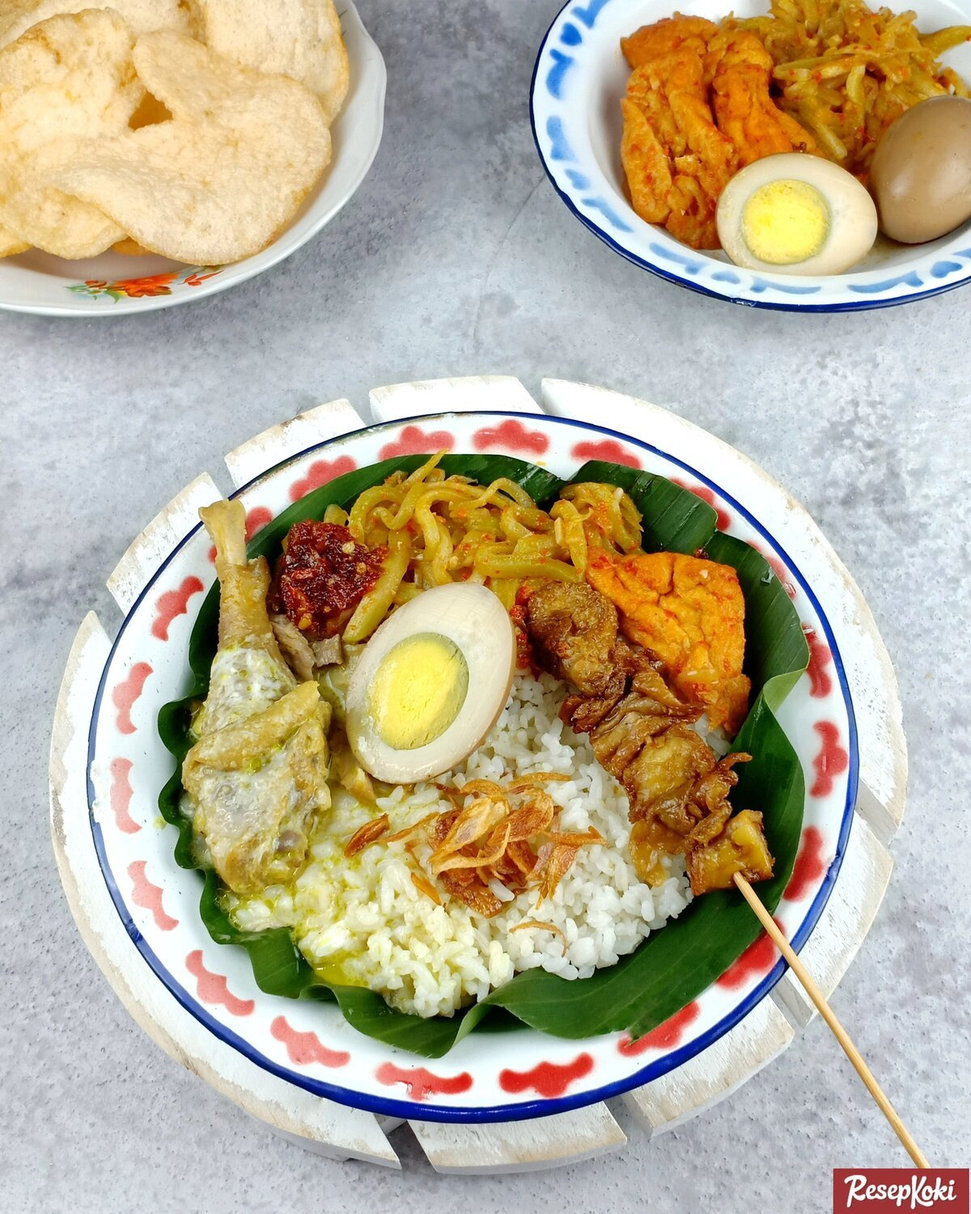buah_sayur_lainnya: (394, 507, 599, 565), (290, 531, 342, 613)
daging: (215, 648, 290, 846), (544, 592, 603, 745)
kacang_legume: (652, 563, 726, 667)
makanan_berpati: (396, 792, 596, 971)
telur: (396, 613, 486, 742)
